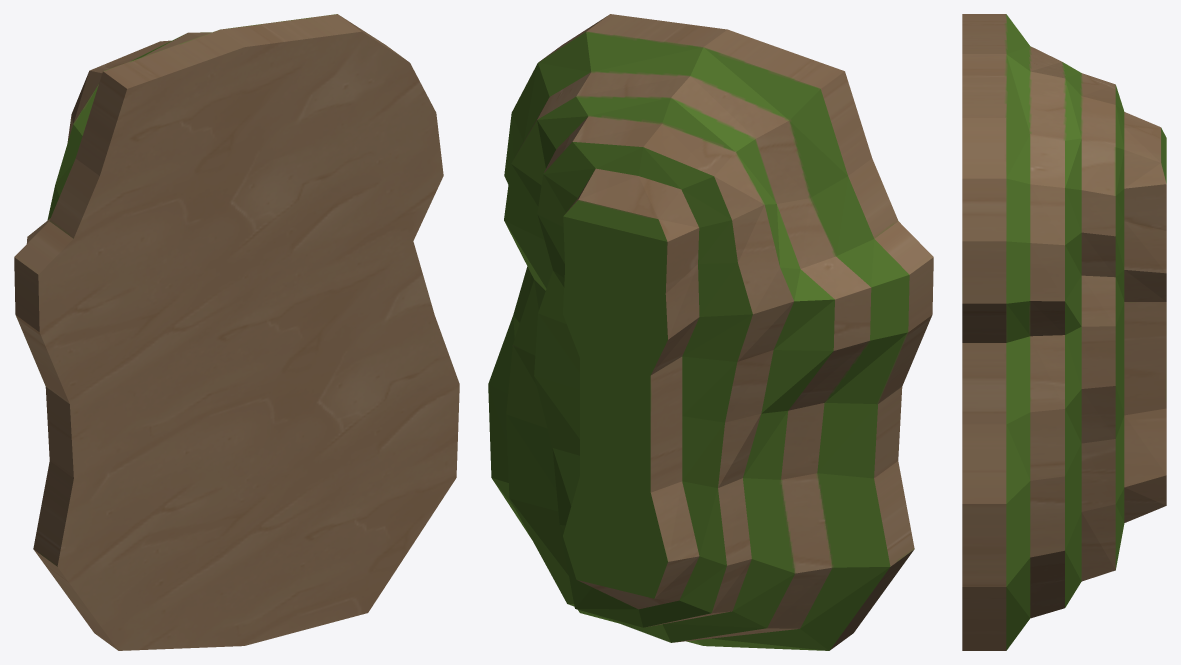
The model's file is mountain-03.obj.
3 views of the same model, side by side, from view 1: azimuth 30°, elevation 25°; view 2: azimuth 150°, elevation 25°; view 3: azimuth 270°, elevation 25° (orthographic). The views are drawn at different scales.
Visible parts, largest first — view 1: mountain-03_Plane.189; view 2: mountain-03_Plane.189; view 3: mountain-03_Plane.189.
Boxes of the visible parts, x1=… form: mountain-03_Plane.189: x1=14, y1=14, x2=459, y2=650; mountain-03_Plane.189: x1=488, y1=14, x2=933, y2=650; mountain-03_Plane.189: x1=962, y1=14, x2=1166, y2=650.
Size of the model in its own units: 29.36 by 39.86 by 13.54.
